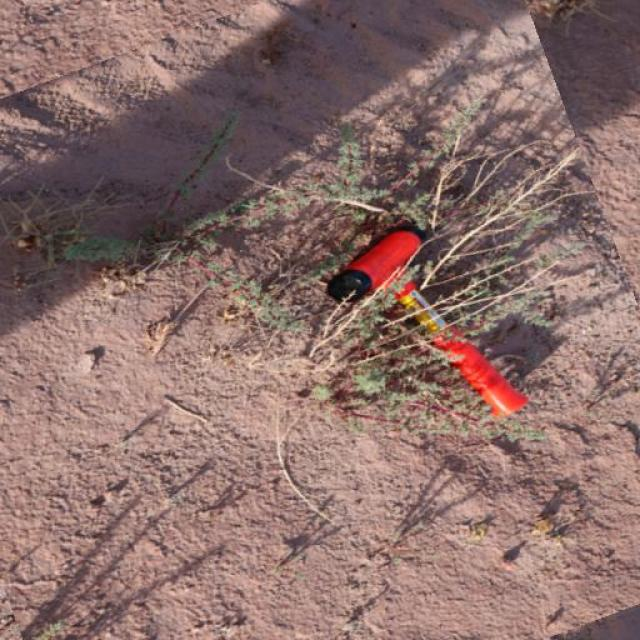mallet: (326, 219, 532, 419)
